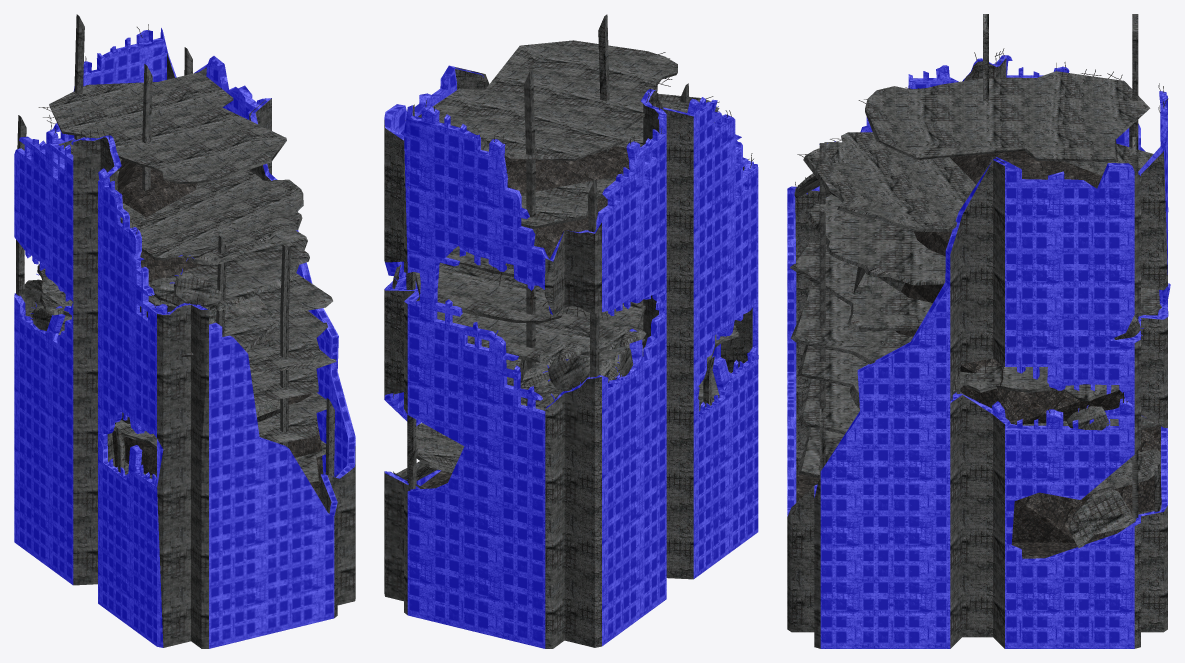
The model's file is Building_Broken.fbx.
The picture shows the model from 3 angles, left to right: view 1: azimuth 30°, elevation 25°; view 2: azimuth 150°, elevation 25°; view 3: azimuth 270°, elevation 25°; orthographic projection. The views are drawn at different scales.
Parts seen in each view (by area): view 1: SMO_BG50_BUILD_UTZ_0010_g; view 2: SMO_BG50_BUILD_UTZ_0010_g; view 3: SMO_BG50_BUILD_UTZ_0010_g.
Part boxes in pixels (box(x1,y1,x2,y2)): SMO_BG50_BUILD_UTZ_0010_g: box(14, 14, 355, 648); SMO_BG50_BUILD_UTZ_0010_g: box(384, 14, 758, 648); SMO_BG50_BUILD_UTZ_0010_g: box(787, 14, 1170, 648).
Size of the model in its own units: 7020 by 16590 by 10231.
